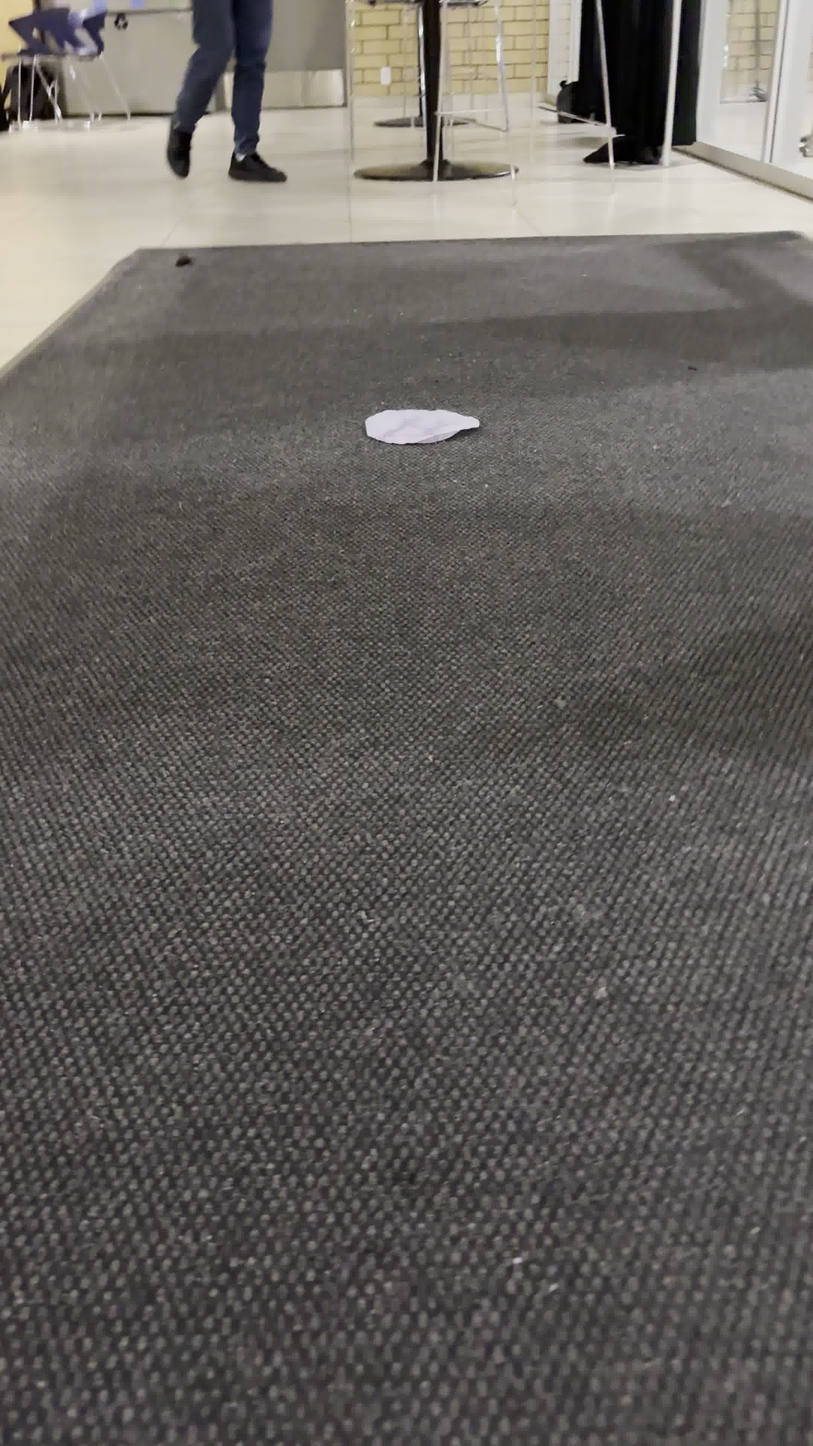Target: (359, 402, 482, 447), (350, 413, 360, 420)
